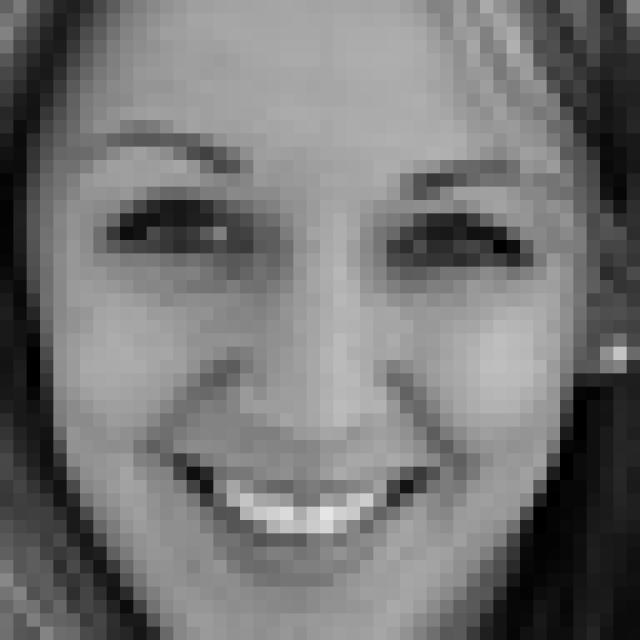happy: (68, 118, 573, 595)
